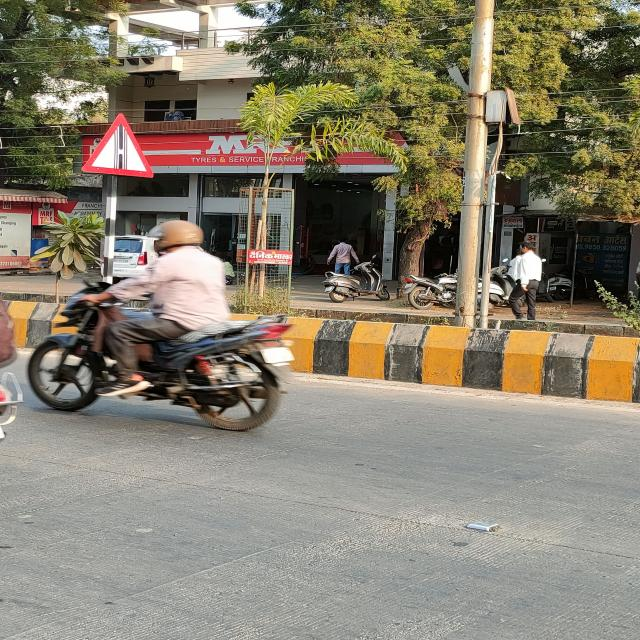GAP_IN_MEDIAN: (79, 113, 155, 178)
